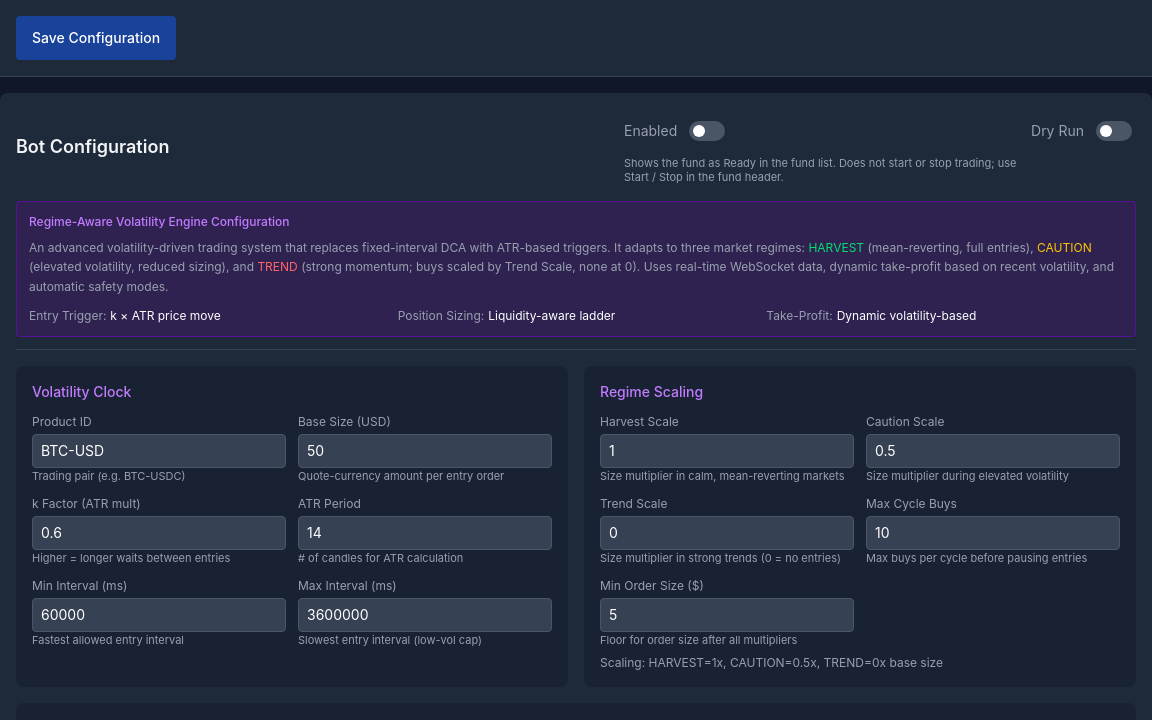
Test: config save response handling › regime Dry Run autosave preserves the draft › keeps unrelated edits and the next Save diff after unpersisted failure
This screenshot has width=1152, height=720.
Replace the text in the field labelled "Product ID" with "ETH-USD" at coordinates (159, 451), box [32,434,286,468]
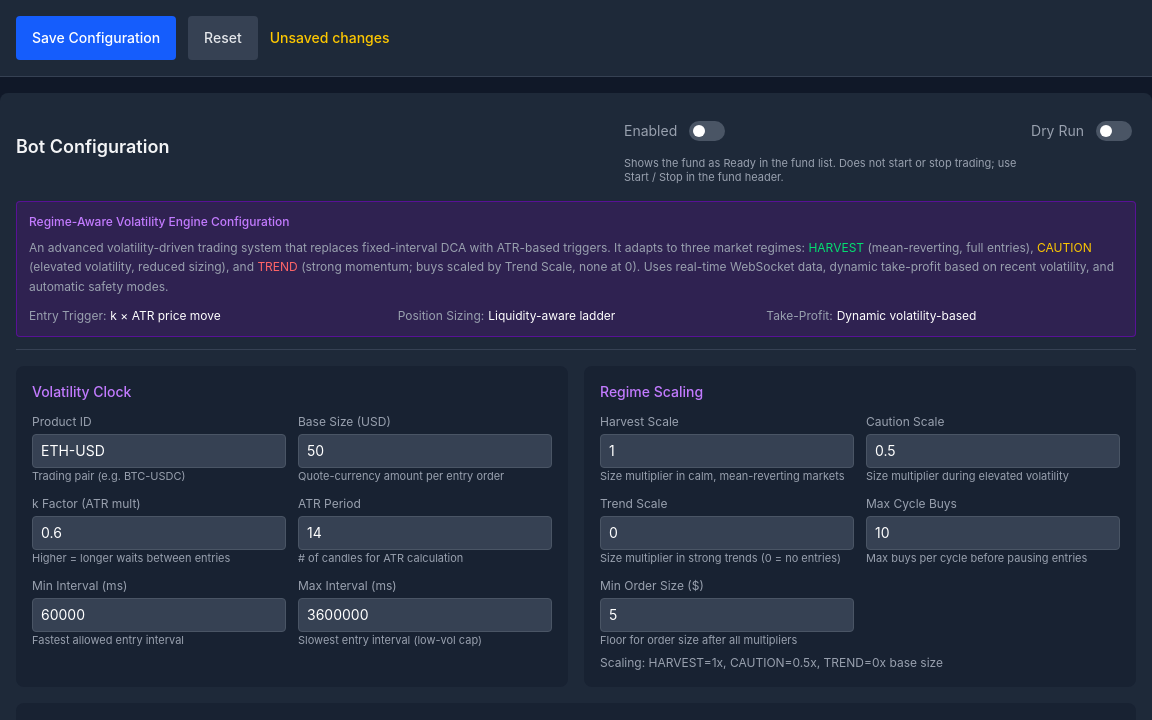
Replace the text in the field labelled "Min Order Size ($)" with "17" at coordinates (727, 614), box [600,598,854,632]
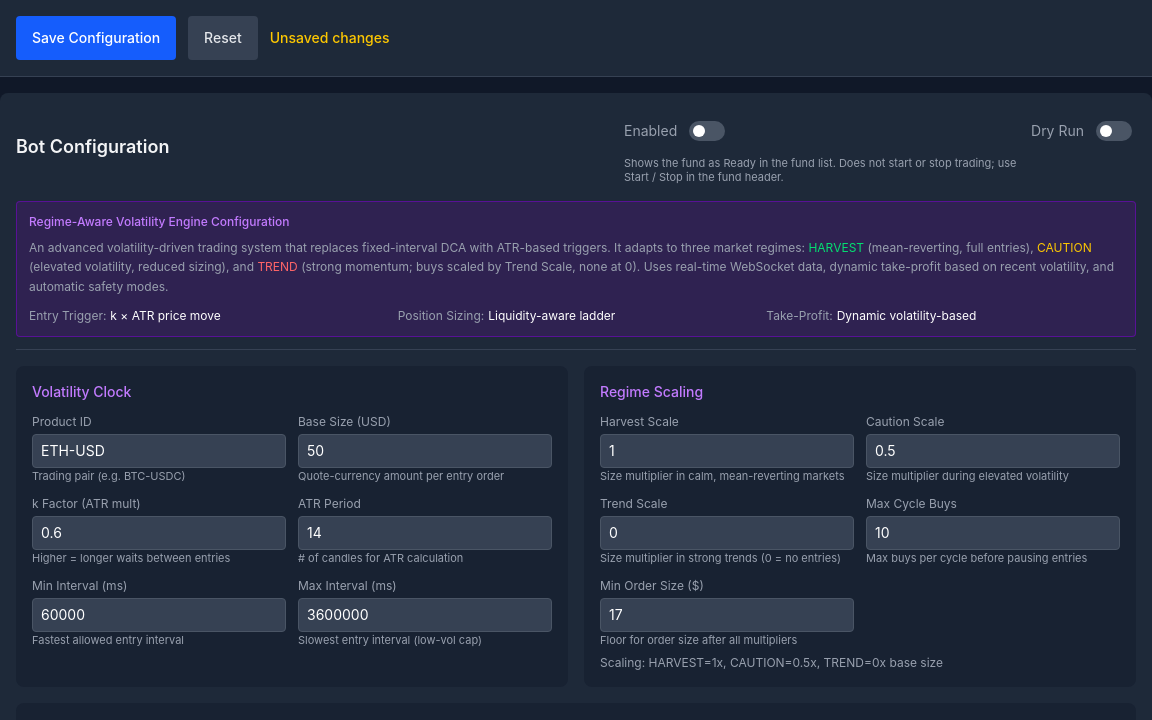
Click the 2nd switch named "Dry Run" at coordinates (1114, 131), box [1092,109,1136,153]
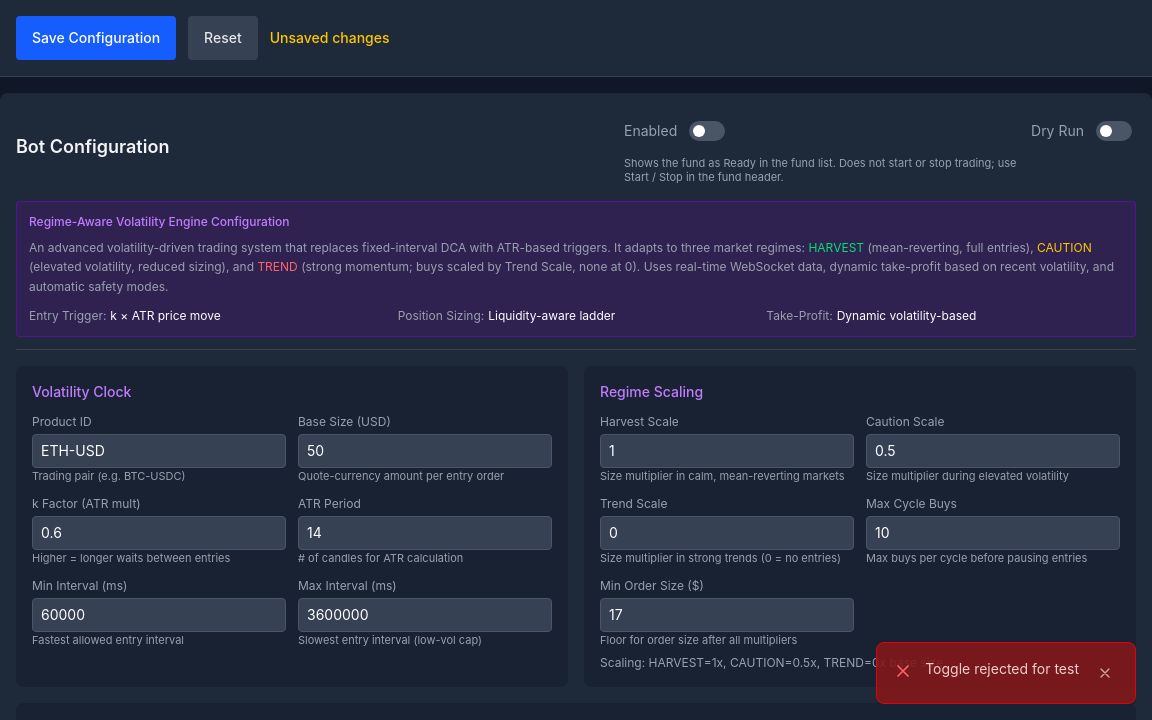
Now the text "Unsaved changes" is shown, box [270,28,390,48]
Now the text "Toggle rejected for test" is shown, box [925,659,1079,679]
Click the button "Save Configuration" at coordinates (96, 38), box [16,16,176,60]
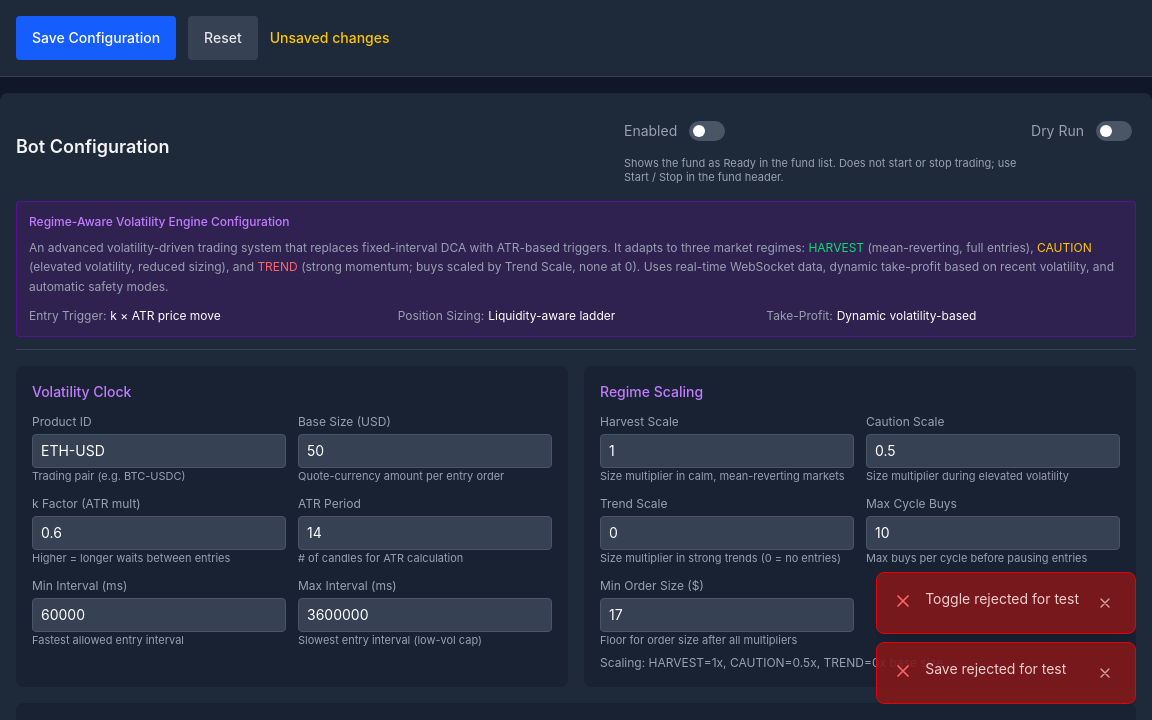
Now the text "Save rejected for test" is shown, box [925,659,1079,679]
